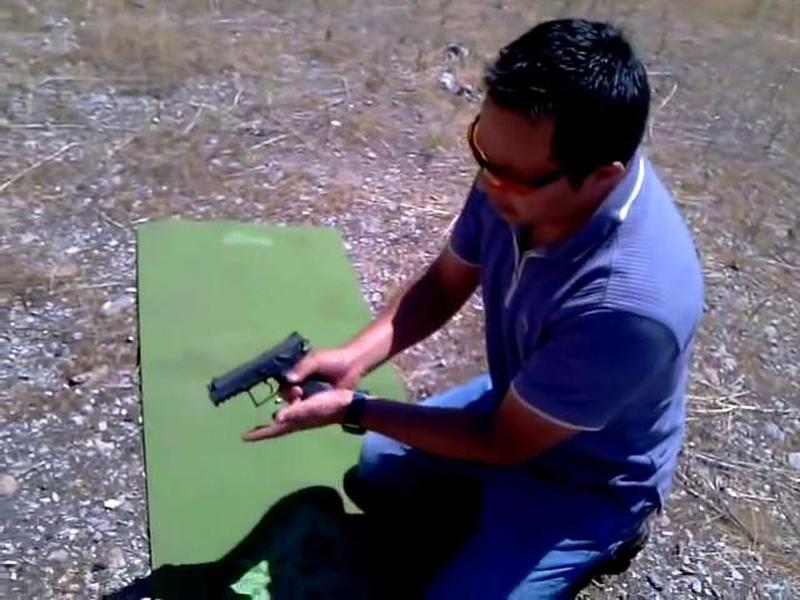Pistola: (195, 314, 362, 436)
